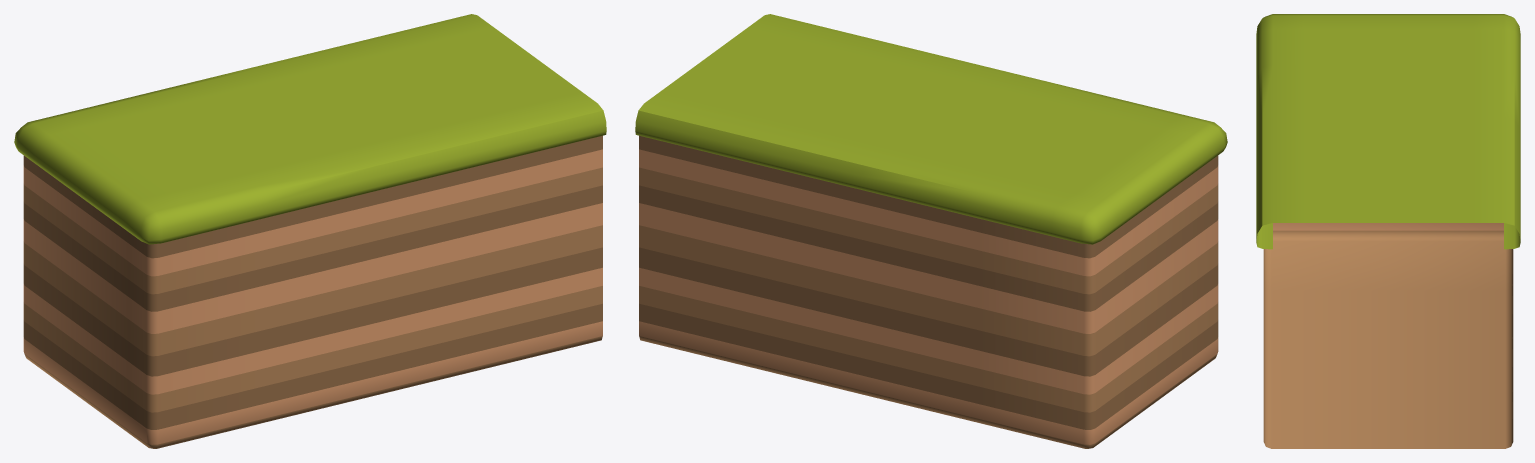
File: Cube_Grass_SideBottom_Tall_029.gltf
The picture shows the model from 3 angles, left to right: view 1: azimuth 30°, elevation 25°; view 2: azimuth 150°, elevation 25°; view 3: azimuth 270°, elevation 25°; orthographic projection. The views are drawn at different scales.
Parts seen in each view (by area): view 1: Cube_Grass_SideBottom_Tall.029; view 2: Cube_Grass_SideBottom_Tall.029; view 3: Cube_Grass_SideBottom_Tall.029.
Part boxes in pixels (x1,y1,x2,y2): Cube_Grass_SideBottom_Tall.029: (14, 14, 606, 448); Cube_Grass_SideBottom_Tall.029: (635, 14, 1227, 448); Cube_Grass_SideBottom_Tall.029: (1256, 14, 1520, 448).
Size of the model in its own units: 8.12 by 4 by 4.23.
